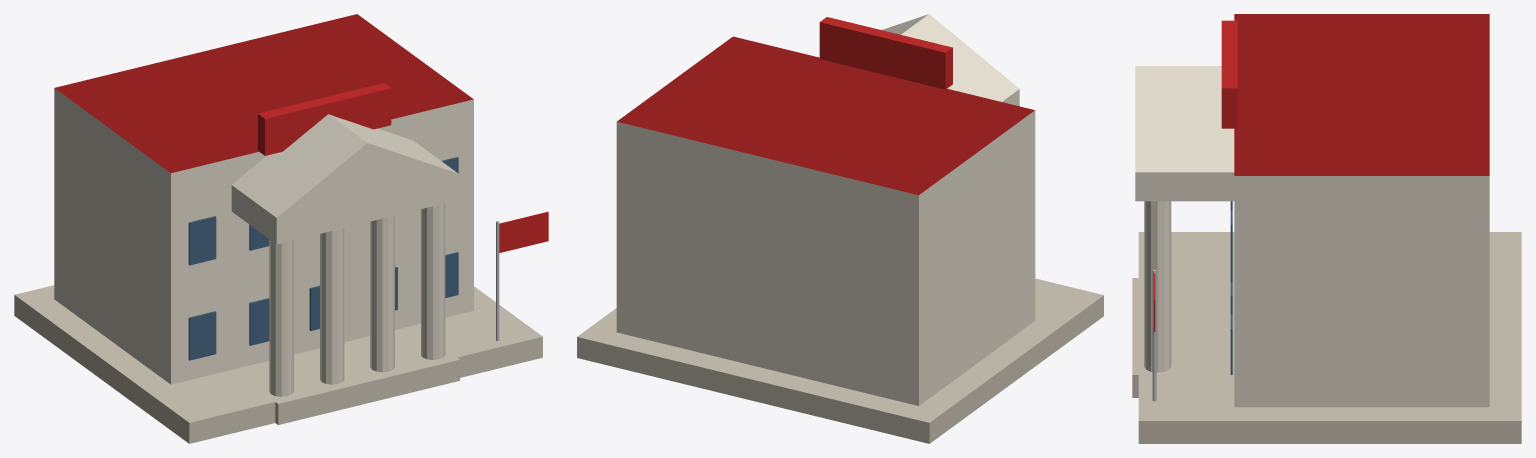
The model's file is gov_min_safety.glb.
The picture shows the model from 3 angles, left to right: view 1: azimuth 30°, elevation 25°; view 2: azimuth 150°, elevation 25°; view 3: azimuth 270°, elevation 25°; orthographic projection. The views are drawn at different scales.
Parts seen in each view (by area): view 1: box; view 2: box; view 3: box.
Boxes of the visible parts, x1,y1,x2,y2 form: box: (14,14,548,443); box: (577,14,1103,443); box: (1132,14,1521,443).
Size of the model in its own units: 14.5 by 10.2 by 12.2.
